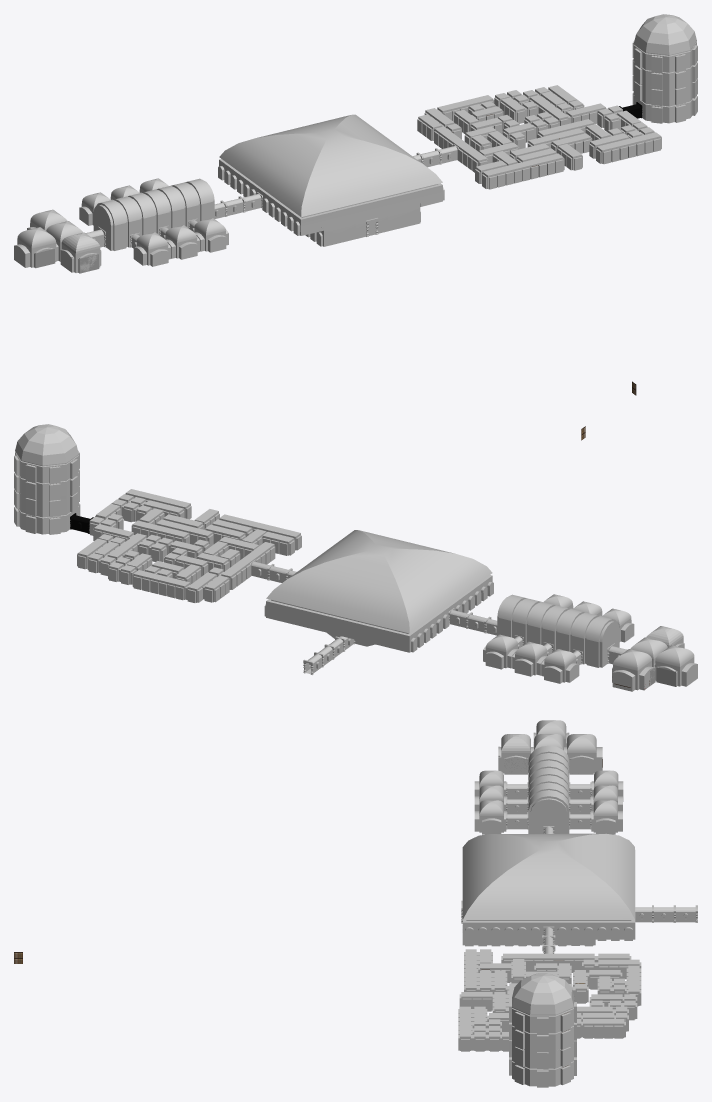
File: Floor2.fbx
The picture shows the model from 3 angles, top to bottom: view 1: azimuth 30°, elevation 25°; view 2: azimuth 150°, elevation 25°; view 3: azimuth 270°, elevation 25°; orthographic projection. The views are drawn at different scales.
Parts seen in each view (by area): view 1: pSphere1, Ballroom, pCube110, pSphere8 (×3), pSphere2, pSphere11, pCylinder22, pCylinder21, pSphere12, pCylinder20, pCylinder19, pCube160; view 2: pSphere1, pCube110, Ballroom, pSphere8 (×5), pSphere2, pSphere9, pCylinder22, pSphere12, pCylinder21, pCylinder20, pCylinder19, pSphere11 (+4 smaller); view 3: pSphere1, Ballroom, pCube110, pSphere2, pSphere8 (×2), pCylinder22, pSphere9, pCylinder19, pCylinder21, pCylinder20, pSphere11, pCube112.
Part boxes in pixels (left/top/right/bottom): pSphere1: left=219, top=114, right=442, bottom=217; Ballroom: left=218, top=159, right=444, bottom=246; pCube110: left=93, top=178, right=214, bottom=250; pSphere8 (×3): left=133, top=218, right=228, bottom=265; pSphere2: left=634, top=14, right=696, bottom=55; pSphere11: left=60, top=232, right=101, bottom=273; pCylinder22: left=632, top=40, right=697, bottom=72; pCylinder21: left=632, top=59, right=697, bottom=89; pSphere12: left=14, top=227, right=56, bottom=268; pCylinder20: left=632, top=75, right=697, bottom=105; pCylinder19: left=632, top=92, right=697, bottom=123; pCube160: left=482, top=165, right=513, bottom=189; pSphere1: left=266, top=530, right=492, bottom=633; pCube110: left=497, top=594, right=619, bottom=667; Ballroom: left=264, top=575, right=493, bottom=652; pSphere8 (×5): left=483, top=608, right=667, bottom=683; pSphere2: left=15, top=424, right=78, bottom=466; pSphere9: left=612, top=649, right=655, bottom=691; pCylinder22: left=14, top=450, right=79, bottom=483; pSphere12: left=654, top=645, right=697, bottom=686; pCylinder21: left=14, top=469, right=79, bottom=500; pCylinder20: left=14, top=486, right=79, bottom=516; pCylinder19: left=14, top=503, right=80, bottom=534; pSphere11: left=646, top=626, right=684, bottom=648; pSphere1: left=462, top=833, right=634, bottom=919; Ballroom: left=462, top=850, right=635, bottom=946; pCube110: left=528, top=745, right=569, bottom=833; pSphere2: left=512, top=973, right=574, bottom=1014; pSphere8 (×2): left=474, top=800, right=622, bottom=834; pCylinder22: left=509, top=999, right=576, bottom=1034; pSphere9: left=567, top=734, right=602, bottom=774; pCylinder19: left=509, top=1057, right=576, bottom=1087; pCylinder21: left=509, top=1022, right=576, bottom=1052; pCylinder20: left=509, top=1040, right=576, bottom=1069; pSphere11: left=498, top=734, right=530, bottom=774; pCube112: left=583, top=1019, right=613, bottom=1038.
Size of the model in its own units: 278 by 49.84 by 234.
